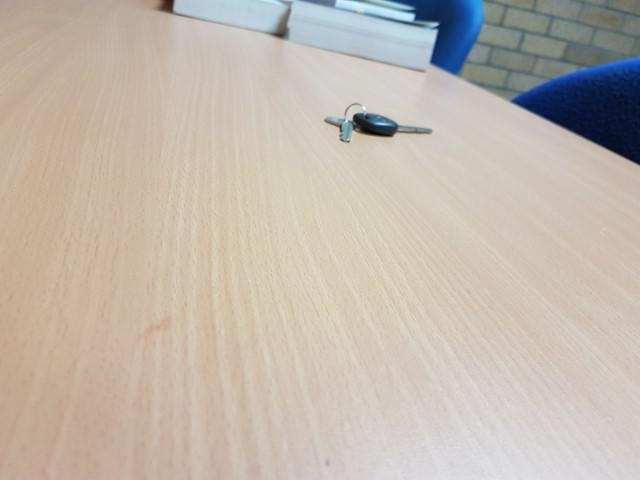key: (354, 111, 433, 136)
